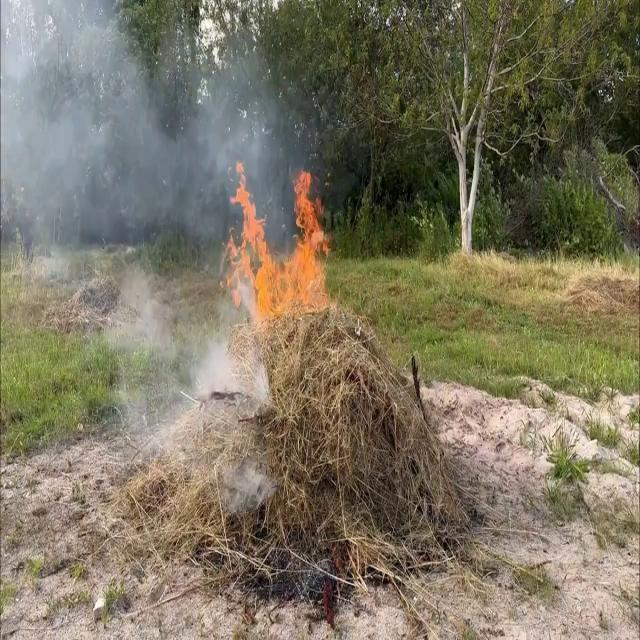Fire: (220, 158, 334, 340)
Smoke: (2, 3, 278, 457)
